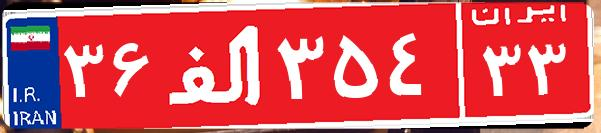3: (273, 28, 330, 110), (57, 26, 110, 107), (475, 38, 525, 113), (525, 38, 570, 115)
4: (385, 28, 445, 110)
5: (330, 28, 385, 110)
6: (110, 28, 158, 105)
الف: (158, 15, 273, 115)
